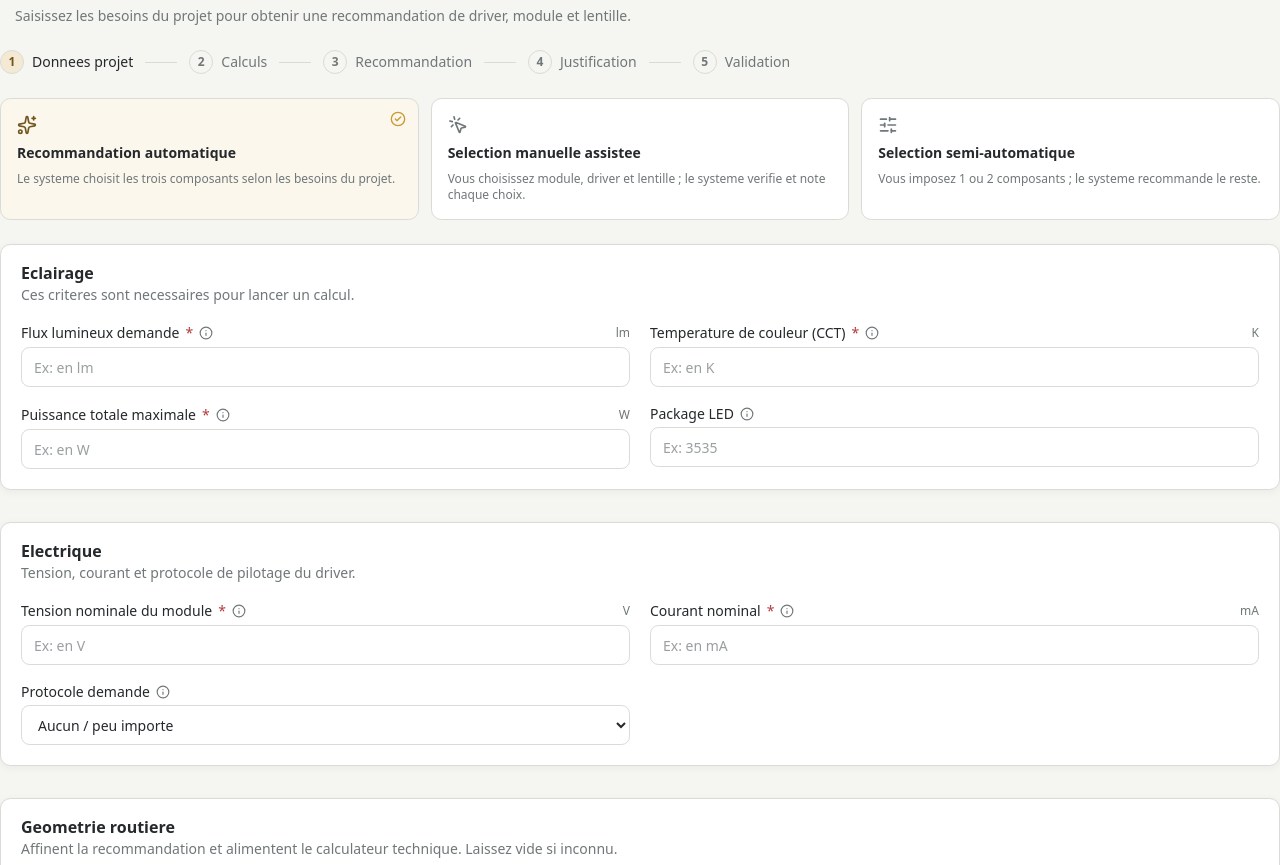
Test: NewCalculationPage › calcule les grandeurs techniques au clic sur Calculer et affiche le resultat
The image size is (1280, 865).
Type "48" into the number field with placeholder "Ex: en V".
click(326, 645); type("48")  # box [21,625,630,665]
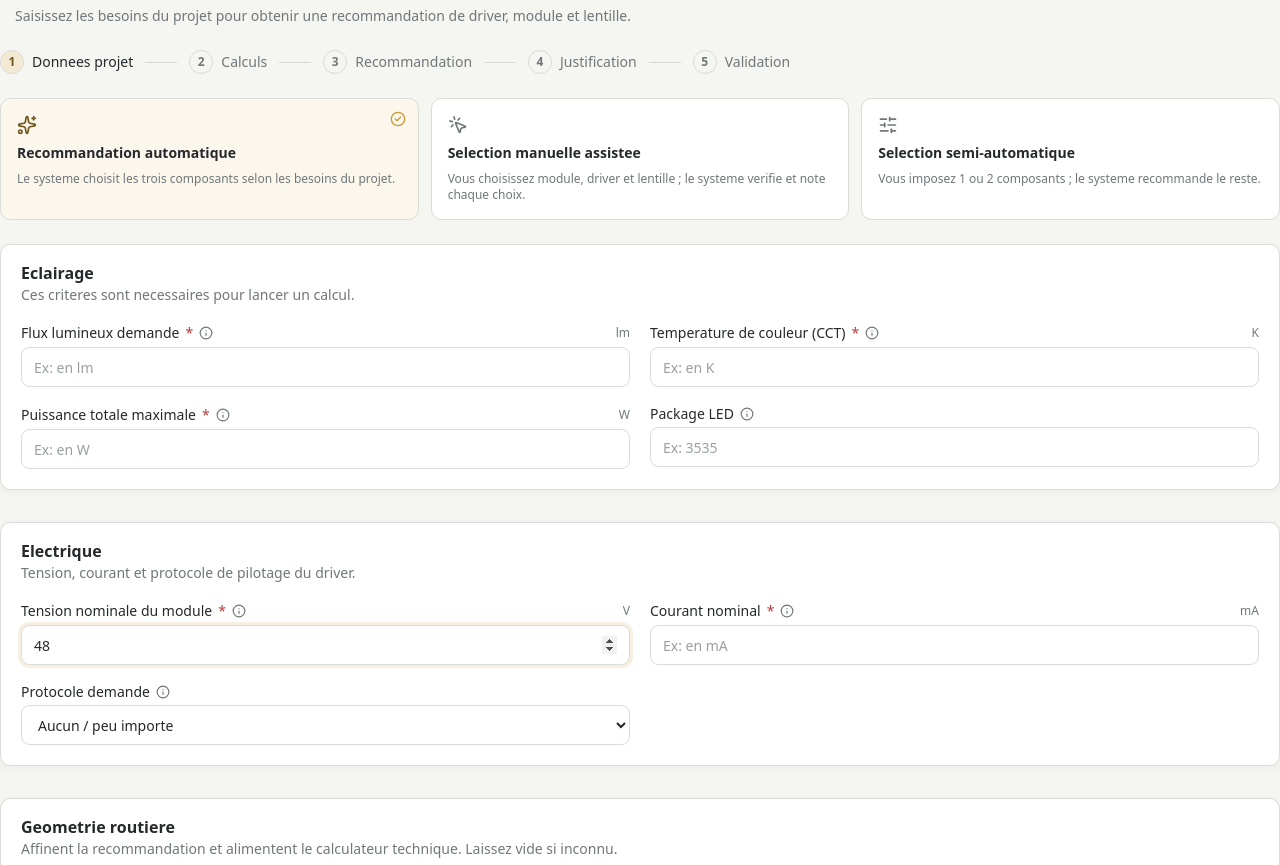
Type "700" into the number field with placeholder "Ex: en mA".
click(954, 645); type("700")  # box [650,625,1259,665]
(page scrolled)
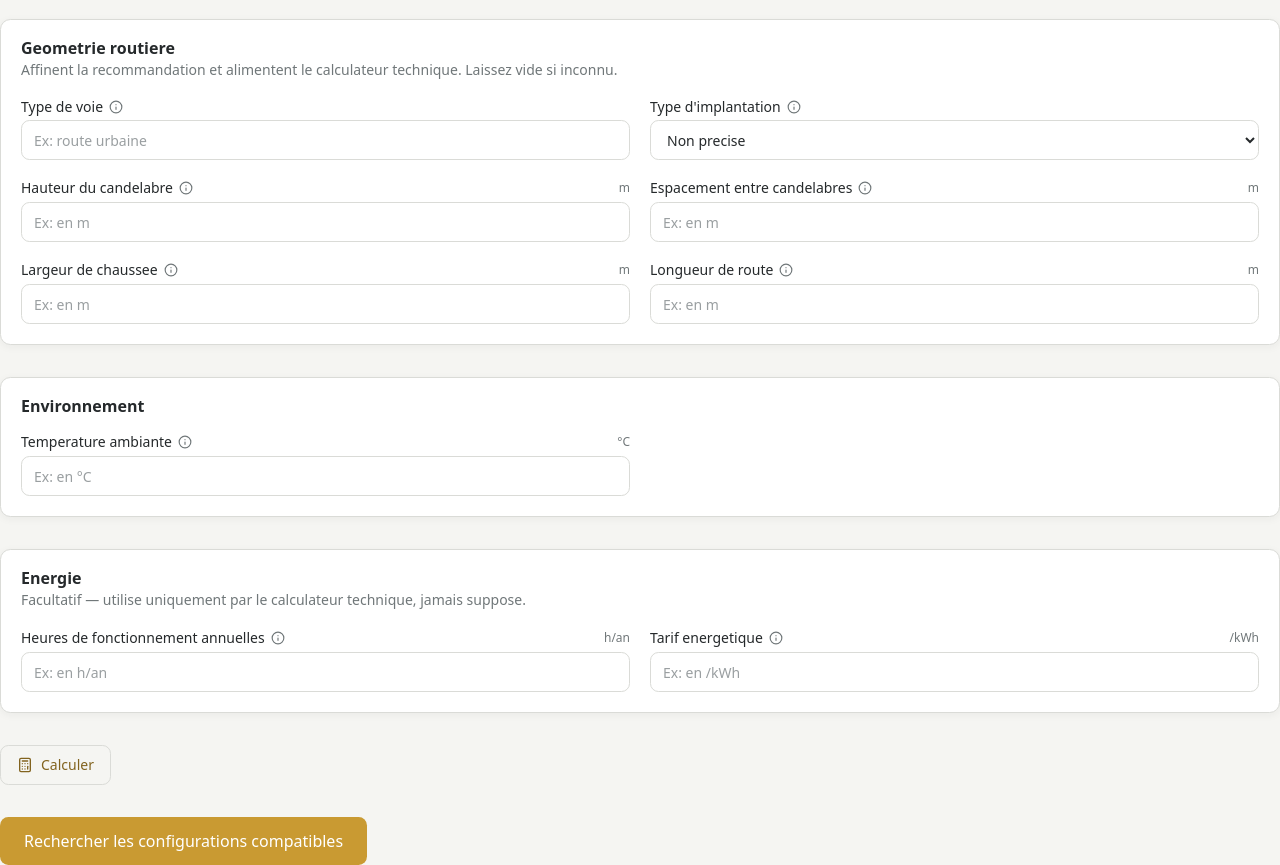
Click the button "Calculer".
click(56, 765)  # box [0,745,111,785]
(page scrolled)
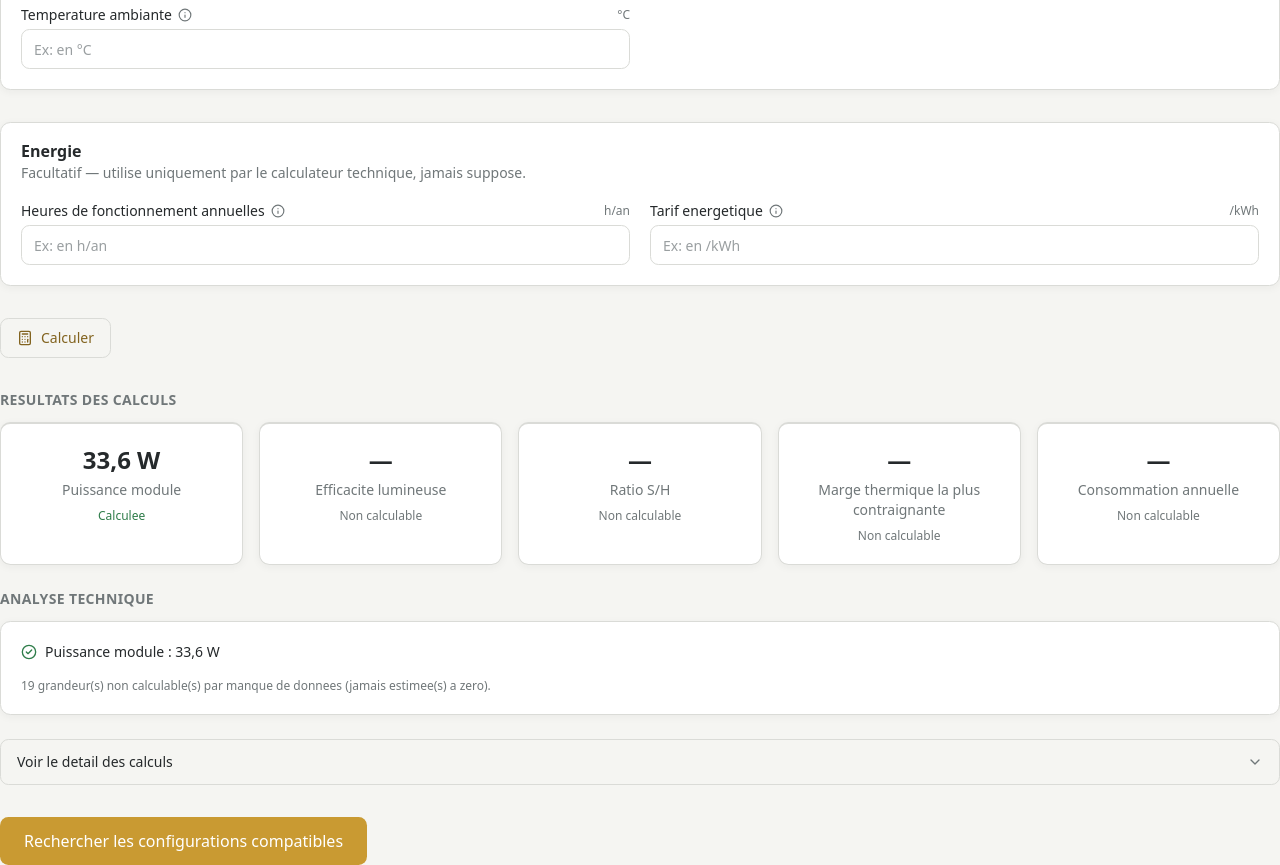
Expected: the button "Rechercher les configurations compatibles" is enabled, [0,817,367,864]
Now the text "33,6 W" is shown, box [83,443,160,476]
